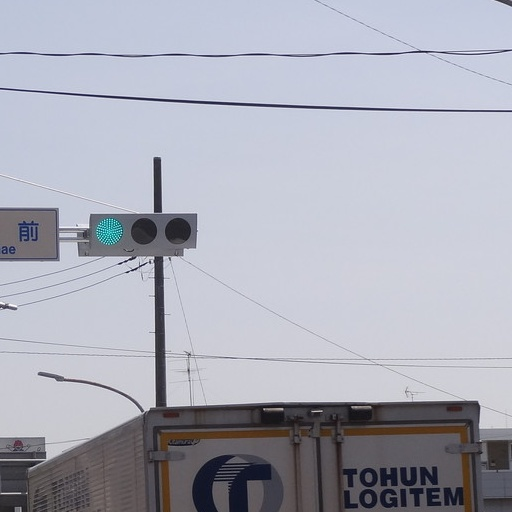Traffic_Signal_Blue: (90, 210, 194, 250)
